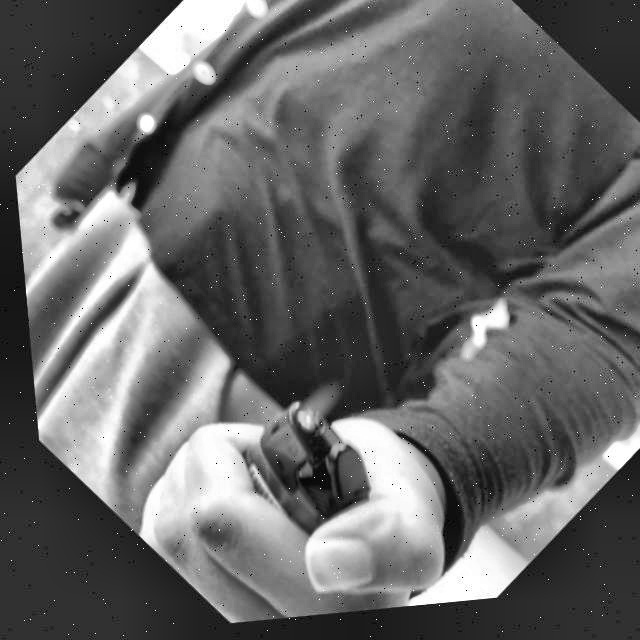Fire: (277, 378, 342, 441)
